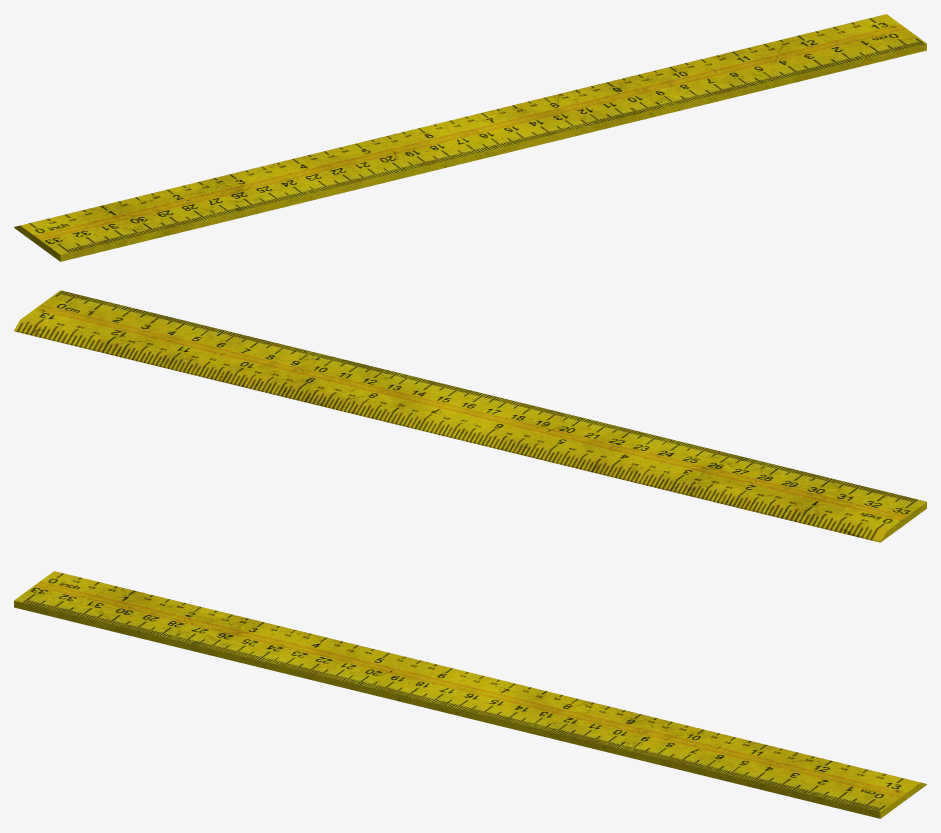
The model's file is ruler.glb.
3 views of the same model, one above another, from view 1: azimuth 30°, elevation 25°; view 2: azimuth 150°, elevation 25°; view 3: azimuth 330°, elevation 25° (orthographic).
Visible parts, largest first — view 1: Object_2; view 2: Object_2; view 3: Object_2.
Boxes of the visible parts, <box> form: Object_2: <box>14,14,926,261</box>; Object_2: <box>14,290,926,542</box>; Object_2: <box>14,571,926,818</box>.
Size of the model in its own units: 305 by 2.34 by 28.37.
Materials: 1 (1 with a texture image).
